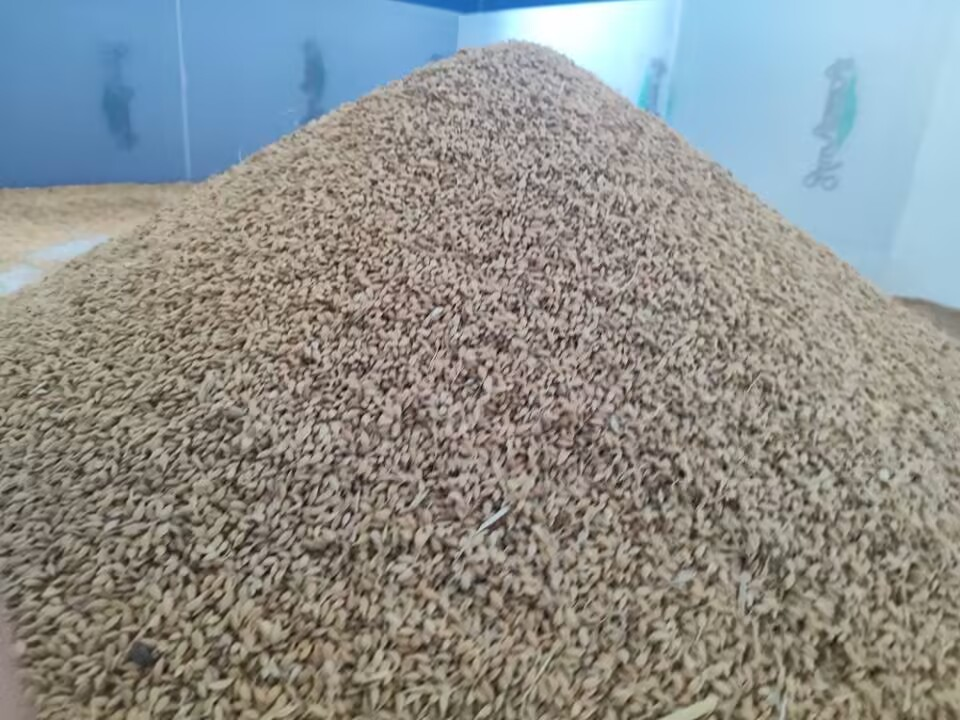Grain: (111, 24, 846, 619)
